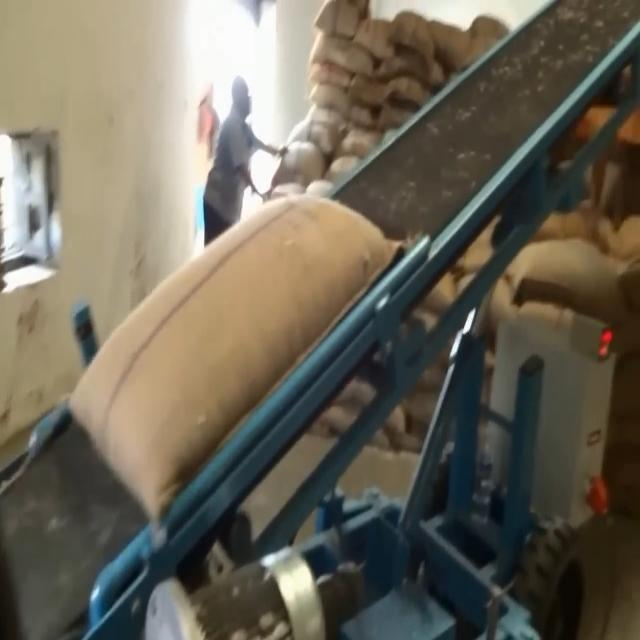gunny_bag: (62, 192, 403, 525)
